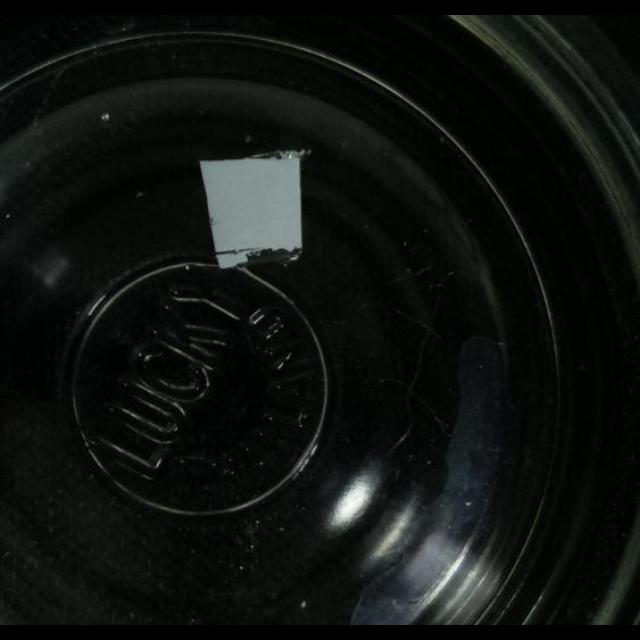Fragment: (190, 154, 312, 272)
